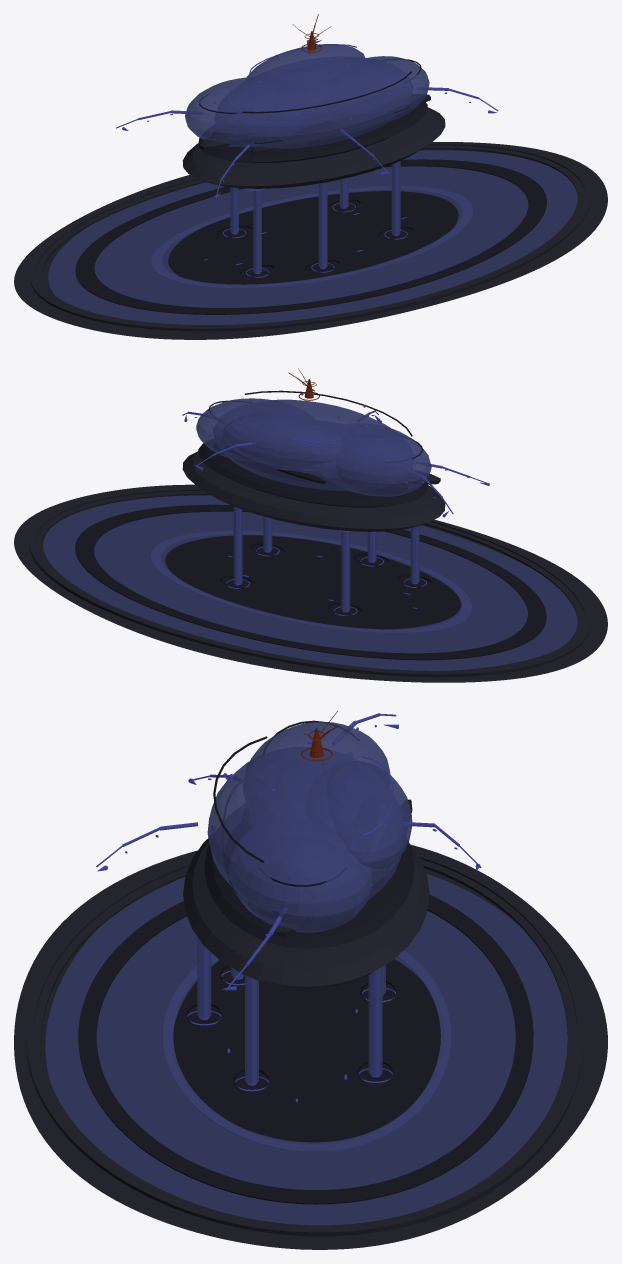
The model's file is recovery-ext-draft-s38.glb.
The picture shows the model from 3 angles, top to bottom: view 1: azimuth 30°, elevation 25°; view 2: azimuth 150°, elevation 25°; view 3: azimuth 270°, elevation 25°; orthographic projection. The views are drawn at different scales.
Visible parts, largest first — view 1: recovery_ext_glass_packed, recovery_ext_base_packed, recovery_ext_detail_packed, recovery_ext_emissive_packed, recovery_ext_accent_packed; view 2: recovery_ext_base_packed, recovery_ext_glass_packed, recovery_ext_detail_packed, recovery_ext_emissive_packed, recovery_ext_accent_packed; view 3: recovery_ext_base_packed, recovery_ext_glass_packed, recovery_ext_detail_packed, recovery_ext_emissive_packed, recovery_ext_accent_packed.
Part boxes in pixels (x1,y1,x2,y2): recovery_ext_glass_packed: (48,44,577,324); recovery_ext_base_packed: (14,94,607,339); recovery_ext_detail_packed: (75,59,546,314); recovery_ext_emissive_packed: (204,46,407,277); recovery_ext_accent_packed: (116,38,498,198); recovery_ext_base_packed: (14,451,607,682); recovery_ext_glass_packed: (43,398,577,670); recovery_ext_detail_packed: (75,390,546,660); recovery_ext_emissive_packed: (226,393,426,615); recovery_ext_accent_packed: (182,410,489,517); recovery_ext_base_packed: (14,795,607,1249); recovery_ext_glass_packed: (45,721,567,1225); recovery_ext_detail_packed: (78,720,533,1204); recovery_ext_emissive_packed: (187,740,396,1102); recovery_ext_accent_packed: (96,713,481,990).
Bounding box in the file's own units: 21.72 × 7.96 × 13.1.
